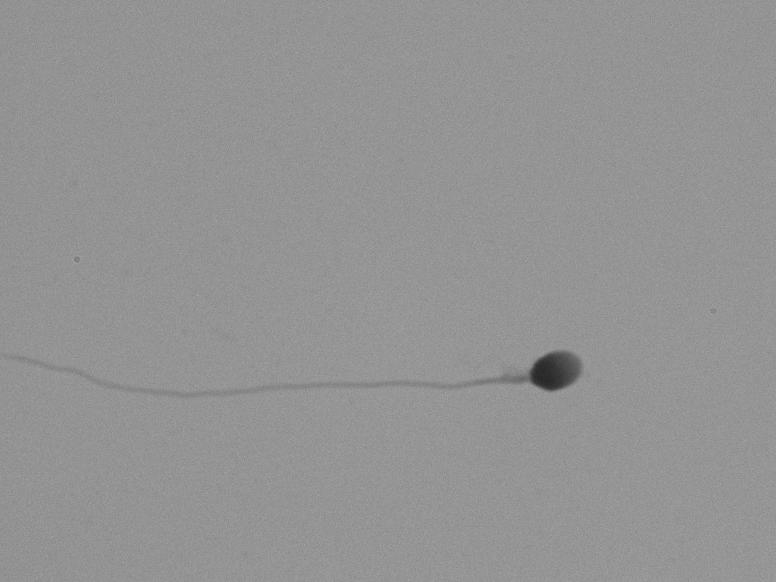Normal: (23, 248, 615, 471)
